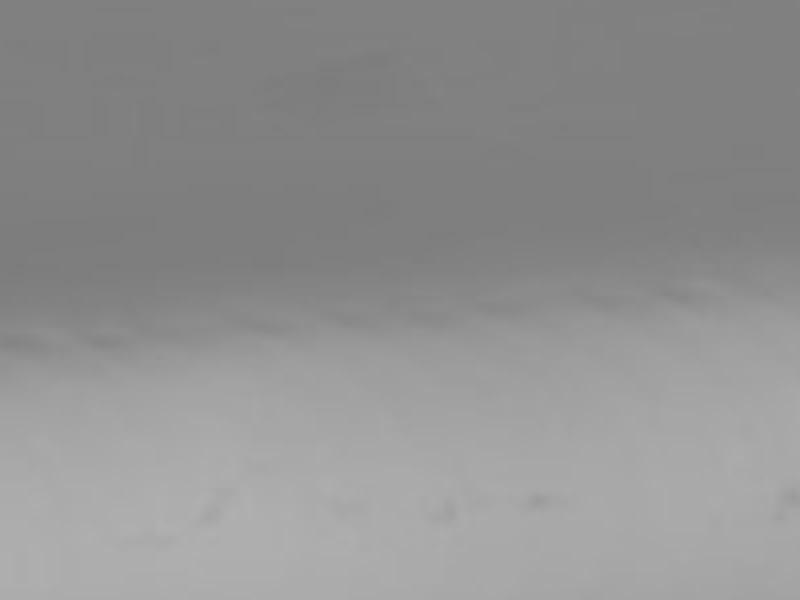defect: (433, 496, 458, 523), (199, 500, 226, 521), (780, 485, 797, 507), (526, 489, 545, 507)
